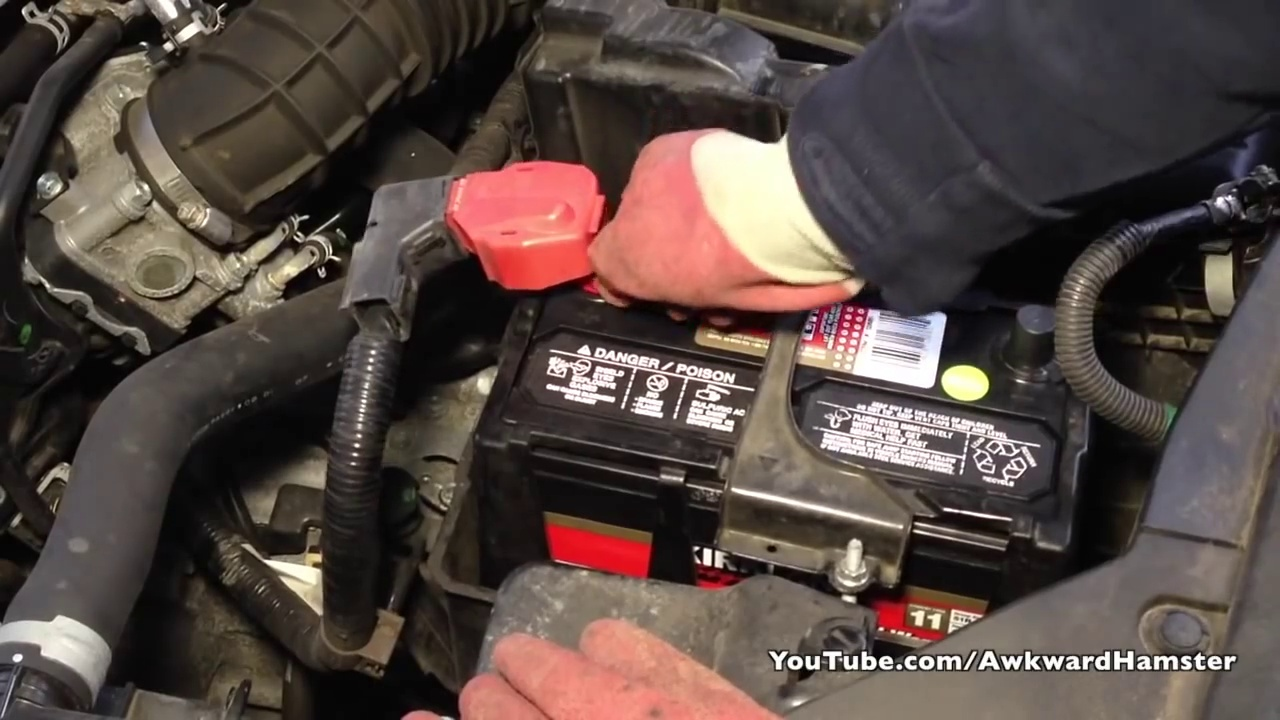battery: (462, 218, 1077, 547)
neg_touched: (470, 128, 794, 326)
pos_connected: (412, 163, 609, 314)
